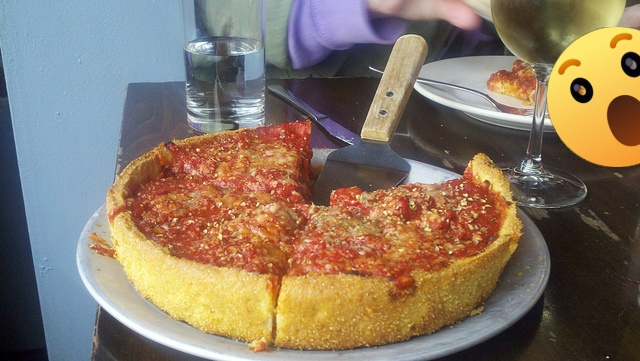wow: (547, 27, 640, 167)
